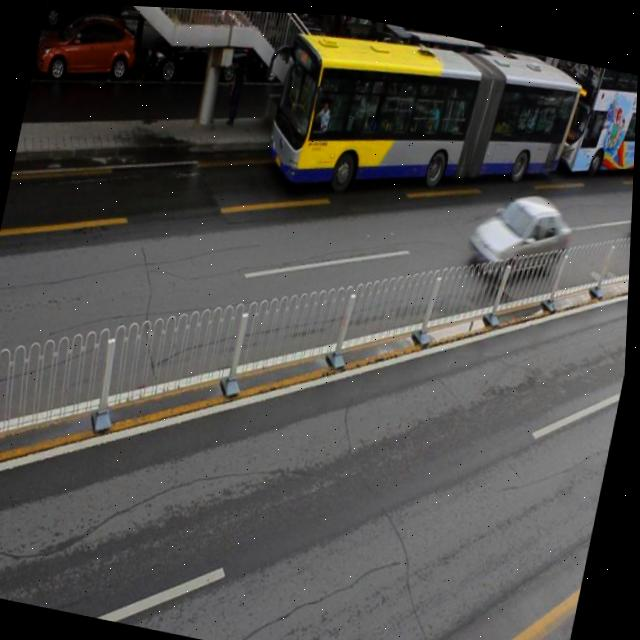car: (468, 178, 578, 284), (32, 3, 143, 93), (141, 11, 249, 91), (250, 11, 338, 94), (343, 31, 429, 105)
van: (265, 9, 585, 231), (541, 54, 639, 182)
